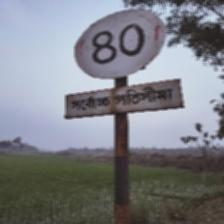Speed-limit: (66, 5, 178, 120)
